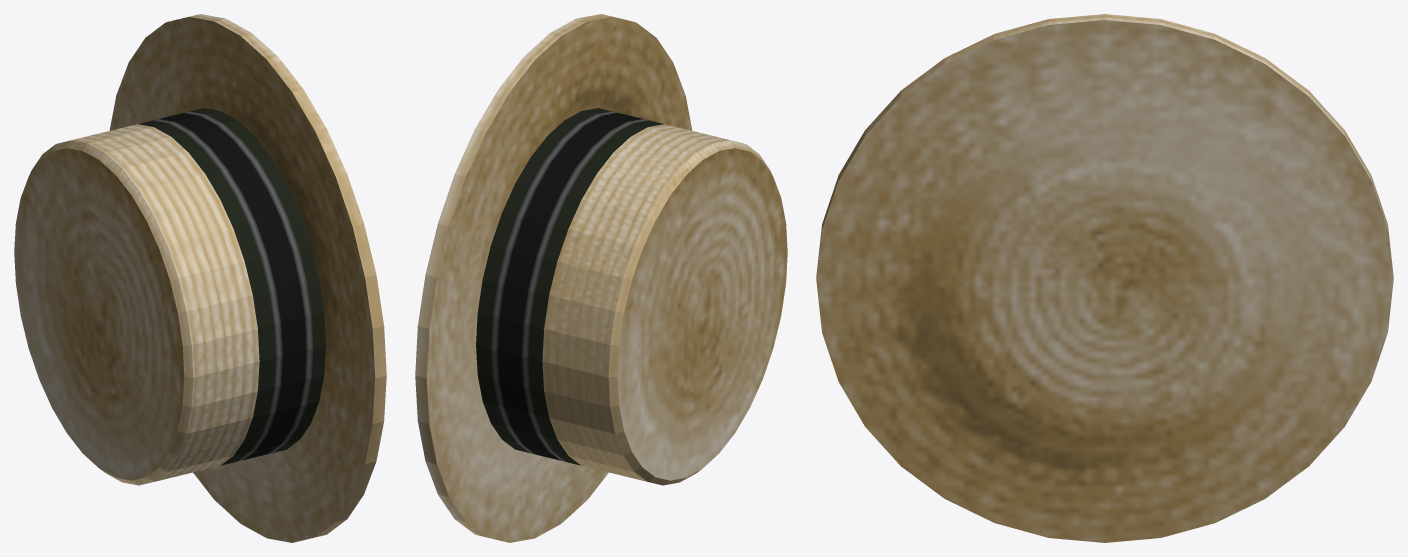
The model's file is Hat_LaFours_M.fbx.
The picture shows the model from 3 angles, left to right: view 1: azimuth 30°, elevation 25°; view 2: azimuth 150°, elevation 25°; view 3: azimuth 270°, elevation 25°; orthographic projection. The views are drawn at different scales.
Parts seen in each view (by area): view 1: LaFours; view 2: LaFours; view 3: LaFours.
Part boxes in pixels (x1,y1,x2,y2): LaFours: (14,14,386,542); LaFours: (415,14,787,542); LaFours: (816,14,1393,542).
Size of the model in its own units: 0.0682 by 0.208 by 0.208.
